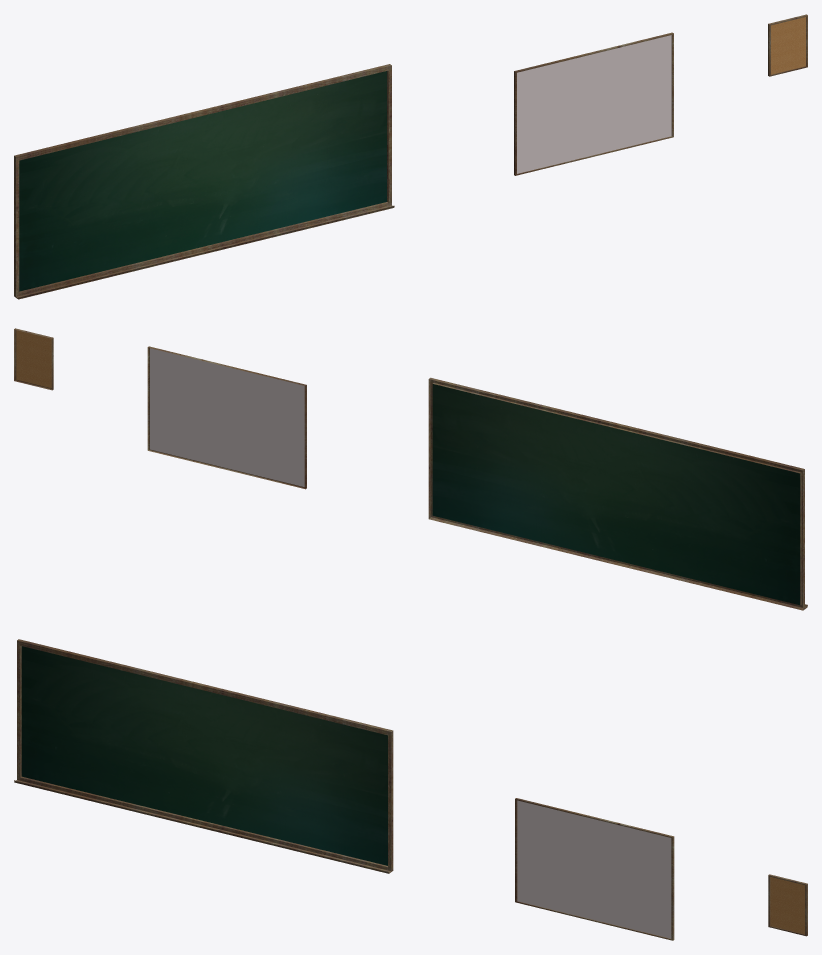
Rendered from SchoolBoards.fbx.
The picture shows the model from 3 angles, top to bottom: view 1: azimuth 30°, elevation 25°; view 2: azimuth 150°, elevation 25°; view 3: azimuth 330°, elevation 25°; orthographic projection.
Parts seen in each view (by area): view 1: pCube2, pCube1, pCube3; view 2: pCube2, pCube1, pCube3; view 3: pCube2, pCube1, pCube3.
Boxes of the visible parts, x1,y1,x2,y2 form: pCube2: (14,64,394,299); pCube1: (514,32,673,175); pCube3: (768,14,807,76); pCube2: (428,377,807,610); pCube1: (147,346,306,489); pCube3: (14,328,53,390); pCube2: (14,639,393,873); pCube1: (515,798,674,940); pCube3: (768,874,807,936).
Size of the model in its own units: 298 by 50.71 by 3.17.
